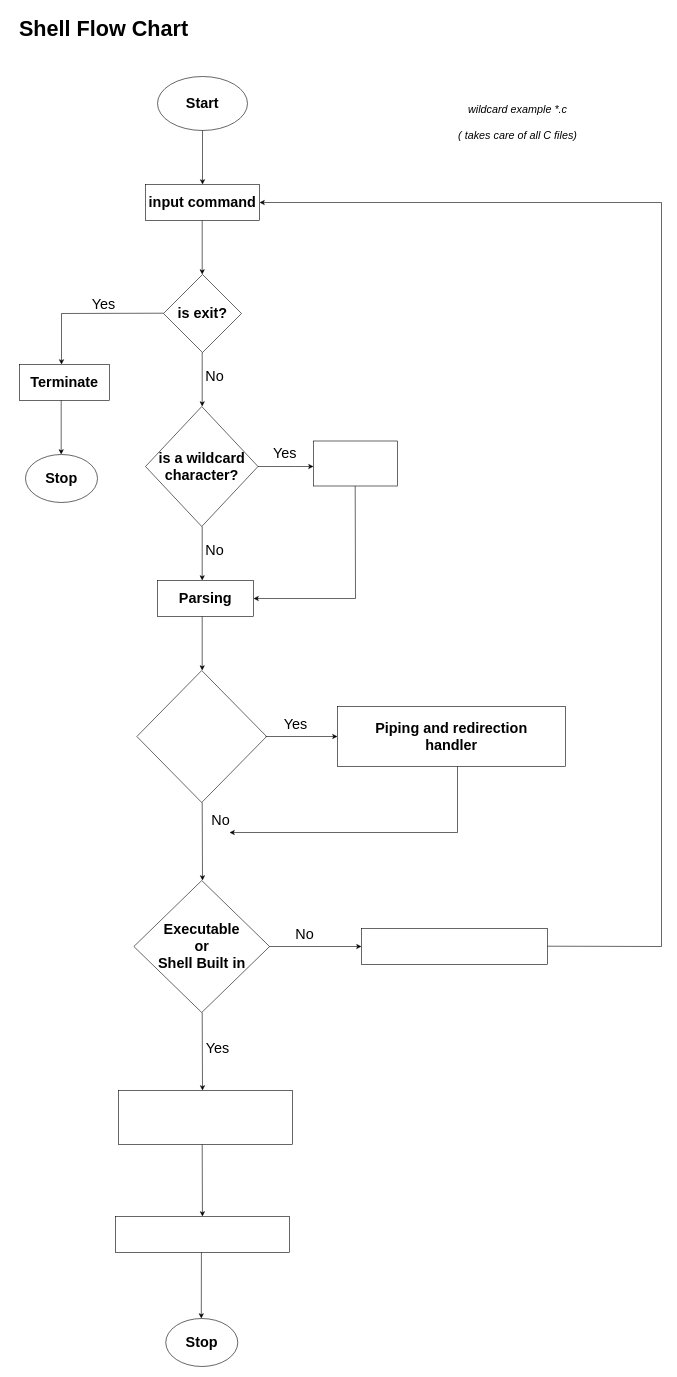
Some shapes in this 677 by 1377 pixel diagram are drawn without their labels. The shapes that lost their labels are listed below. From the top down, each one's box as (x1, y1, x2, y2) in pixels, then its label:
(313, 440, 398, 486): Wildcard Globbing
(136, 670, 267, 802): Piping or Redirection
(361, 928, 548, 964): Display Error
(118, 1090, 292, 1144): Execute Command
(115, 1216, 290, 1252): Display Output
